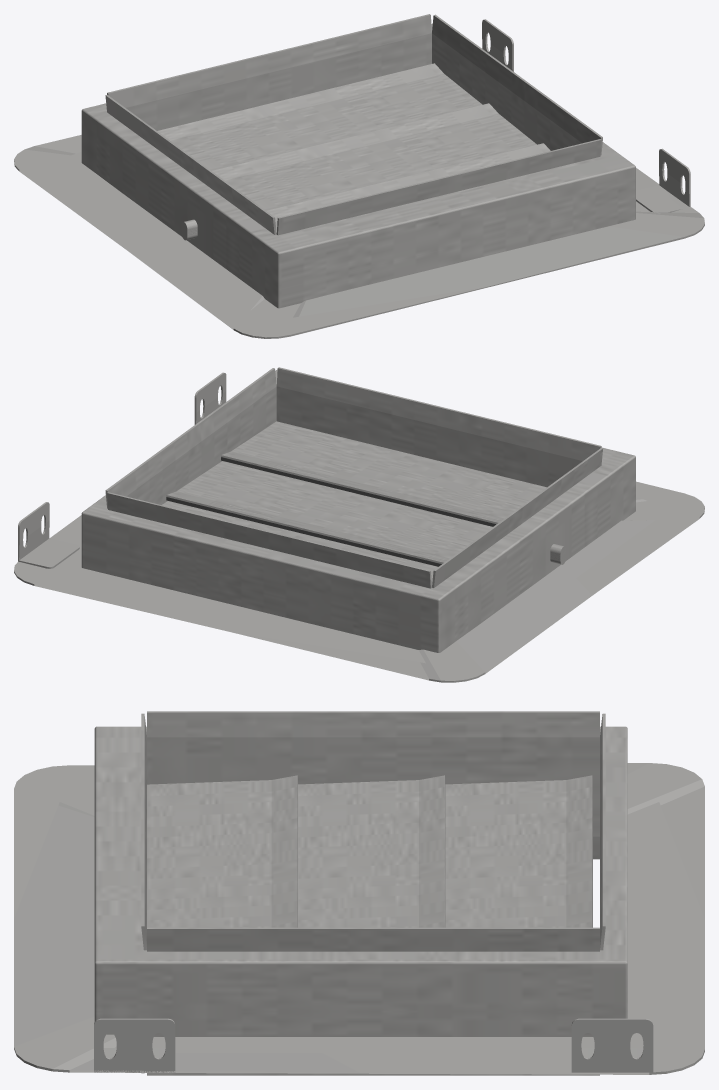
The model's file is DamperTest.glb.
3 views of the same model, one above another, from view 1: azimuth 30°, elevation 25°; view 2: azimuth 150°, elevation 25°; view 3: azimuth 270°, elevation 25° (orthographic). The views are drawn at different scales.
Parts seen in each view (by area): view 1: Plane.001, Plane, Plane.005, Plane.006; view 2: Plane.001, Plane, Plane.005, Plane.006; view 3: Plane.001, Plane, Plane.005, Plane.006.
Part boxes in pixels (box(x1,y1,x2,y2)): Plane.001: box(81, 14, 635, 308); Plane: box(157, 63, 550, 232); Plane.005: box(14, 135, 704, 338); Plane.006: box(482, 19, 690, 213); Plane.001: box(81, 367, 635, 652); Plane: box(162, 421, 546, 586); Plane.005: box(14, 481, 704, 682); Plane.006: box(18, 372, 226, 568); Plane.001: box(94, 711, 627, 1075); Plane: box(147, 775, 592, 927); Plane.005: box(14, 763, 704, 1074); Plane.006: box(94, 1018, 653, 1072).
Size of the model in its own units: 2.77 by 0.6177 by 2.63.
Materials: 2 (1 with a texture image).
